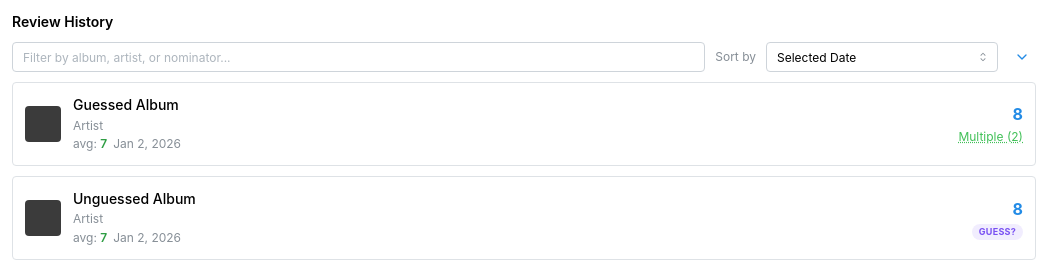
Test: ReviewHistory nominators › never matches the filter on nominators of an unguessed album
Type "sam" into the field with placeholder "Filter by album, artist, or nominator...".
click(359, 57); type("sam")  # box [12,42,705,72]
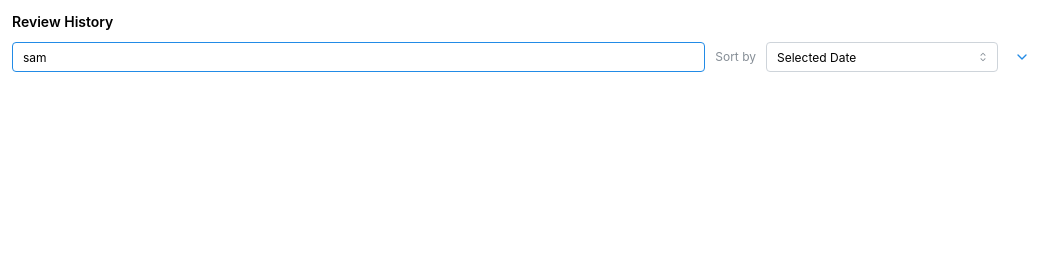
Expected: the text "Unguessed Album" is gone
Expected: the text "Guessed Album" is gone
